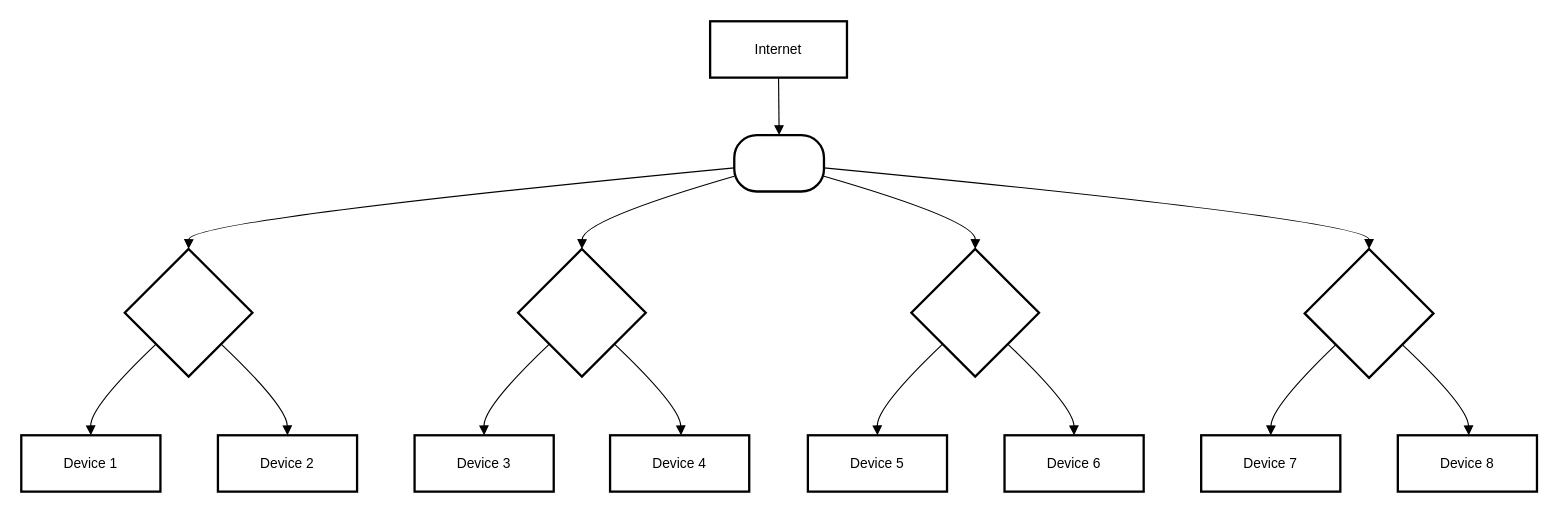
Image size: 1557x512. Some labels were removed from this diagram. Each missing label, with the centre of its shape:
Router: the point at 779,162
Subnet 1: the point at 188,312
Subnet 2: the point at 581,312
Subnet 3: the point at 975,312
Subnet 4: the point at 1368,312
